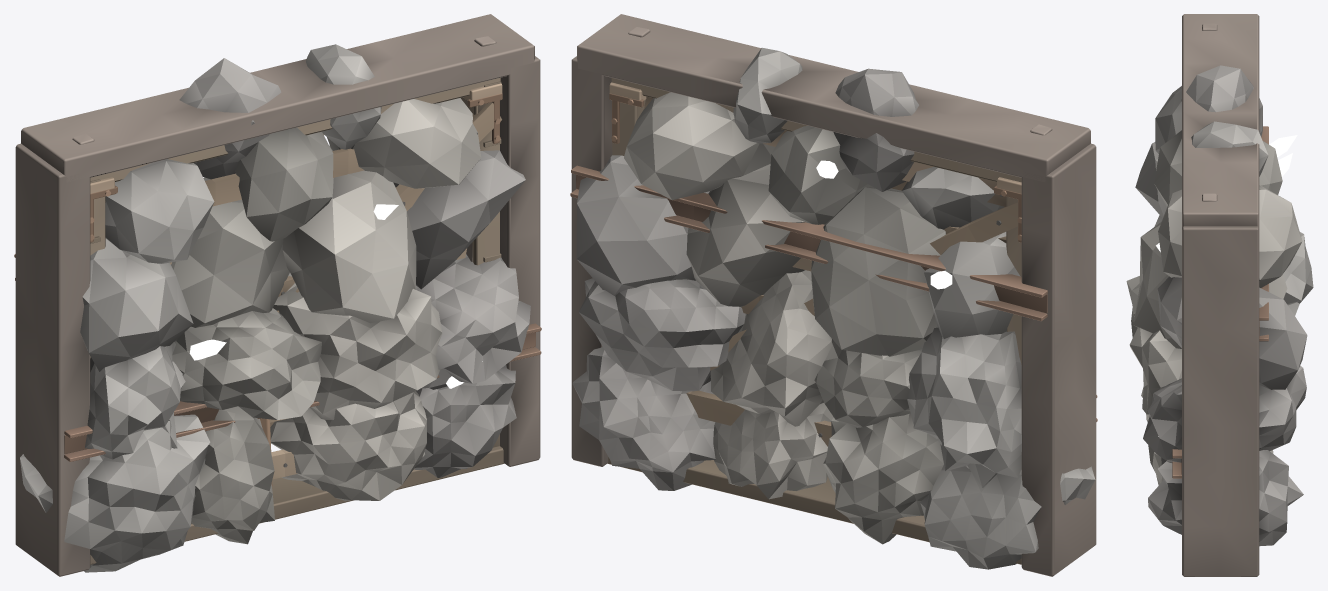
The model's file is puertas_mina.glb.
The picture shows the model from 3 angles, left to right: view 1: azimuth 30°, elevation 25°; view 2: azimuth 150°, elevation 25°; view 3: azimuth 270°, elevation 25°; orthographic projection. The views are drawn at different scales.
Parts seen in each view (by area): view 1: pd_mineB__marco, pd_mineB__roca0, pd_mineB__roca10, pd_mineB__roca6, pd_mineB__roca5, pd_mineB__roca2, pd_mineB__roca7, pd_mineB__roca8, pd_mineB__roca9, pd_mineB__roca14, pd_mineB__roca12, pd_mineB__roca13 (+12 smaller); view 2: pd_mineB__marco, pd_mineB__roca9, pd_mineB__roca4, pd_mineB__roca7, pd_mineB__roca3, pd_mineB__roca6, pd_mineB__roca11, pd_mineB__roca1, pd_mineB__roca14, pd_mineB__roca0, pd_mineB__roca10, pd_mineA__marco (+13 smaller); view 3: pd_mineB__marco, pd_mineB__roca7, pd_mineB__roca11, pd_mineB__roca14, pd_mineB__roca3, pd_mineB__roca10, pd_mineB__roca6, pd_mineB__roca15, pd_mineB__roca13, pd_mineB__roca16, pd_mineB__roca4, pd_mineB__roca12 (+6 smaller).
Part boxes in pixels (x1,y1,x2,y2): pd_mineB__marco: (15,14,540,576); pd_mineB__roca0: (20,414,210,572); pd_mineB__roca10: (282,145,416,323); pd_mineB__roca6: (273,273,442,419); pd_mineB__roca5: (172,308,321,419); pd_mineB__roca2: (270,391,426,500); pd_mineB__roca7: (416,254,530,389); pd_mineB__roca8: (80,238,193,371); pd_mineB__roca9: (171,177,289,327); pd_mineB__roca14: (327,98,481,188); pd_mineB__roca12: (105,159,214,263); pd_mineB__roca13: (235,127,333,241); pd_mineB__marco: (571,14,1096,576); pd_mineB__roca9: (811,186,945,356); pd_mineB__roca4: (907,327,1021,487); pd_mineB__roca7: (579,278,745,391); pd_mineB__roca3: (572,346,715,490); pd_mineB__roca6: (710,270,831,426); pd_mineB__roca11: (576,155,709,295); pd_mineB__roca1: (823,413,943,544); pd_mineB__roca14: (624,92,775,200); pd_mineB__roca0: (920,444,1095,569); pd_mineB__roca10: (686,164,804,306); pd_mineA__marco: (607,78,1021,564); pd_mineB__marco: (1182,14,1259,576); pd_mineB__roca7: (1143,365,1306,462); pd_mineB__roca11: (1157,276,1307,389); pd_mineB__roca14: (1158,185,1302,287); pd_mineB__roca3: (1148,450,1303,546); pd_mineB__roca10: (1133,222,1287,348); pd_mineB__roca6: (1129,327,1181,415); pd_mineB__roca15: (1181,65,1262,136); pd_mineB__roca13: (1154,130,1282,206); pd_mineB__roca16: (1191,121,1268,176); pd_mineB__roca4: (1154,215,1313,315); pd_mineB__roca12: (1155,86,1181,153).
Size of the model in its own units: 4.49 by 4.1 by 1.7.
